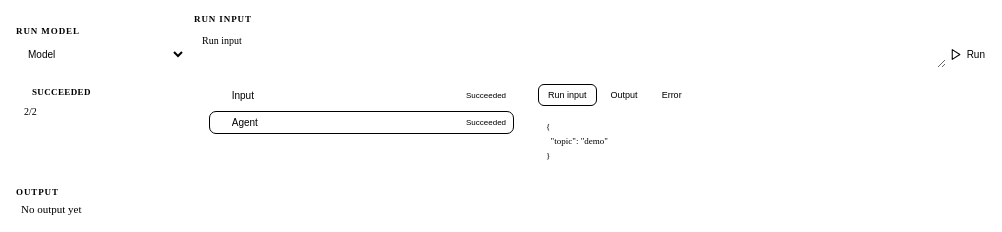
Test case: workflow run panel interactions › shows a warning bar when the selected node detail starts with verification:
The image size is (1002, 232).
Click the tab "Output". click: (624, 95)
box: [601, 84, 648, 106]
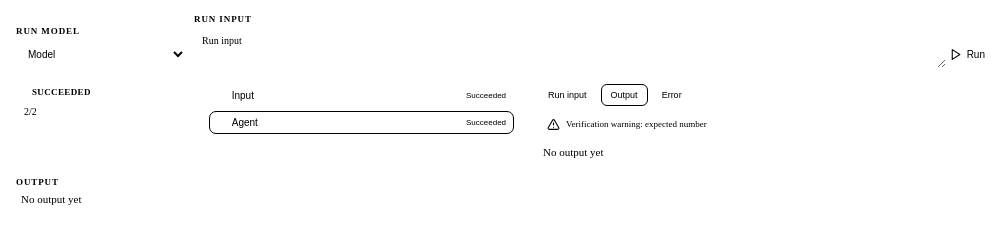
expect the element with class "yolo-workflow-run-detail__warning" is shown: met, box [547, 118, 707, 131]
expect the element with class "yolo-workflow-run-detail__warning" shows "Verification warning:": met, box [566, 119, 643, 129]
expect the element with class "yolo-workflow-run-detail__warning" shows "expected number": met, box [645, 119, 707, 129]
